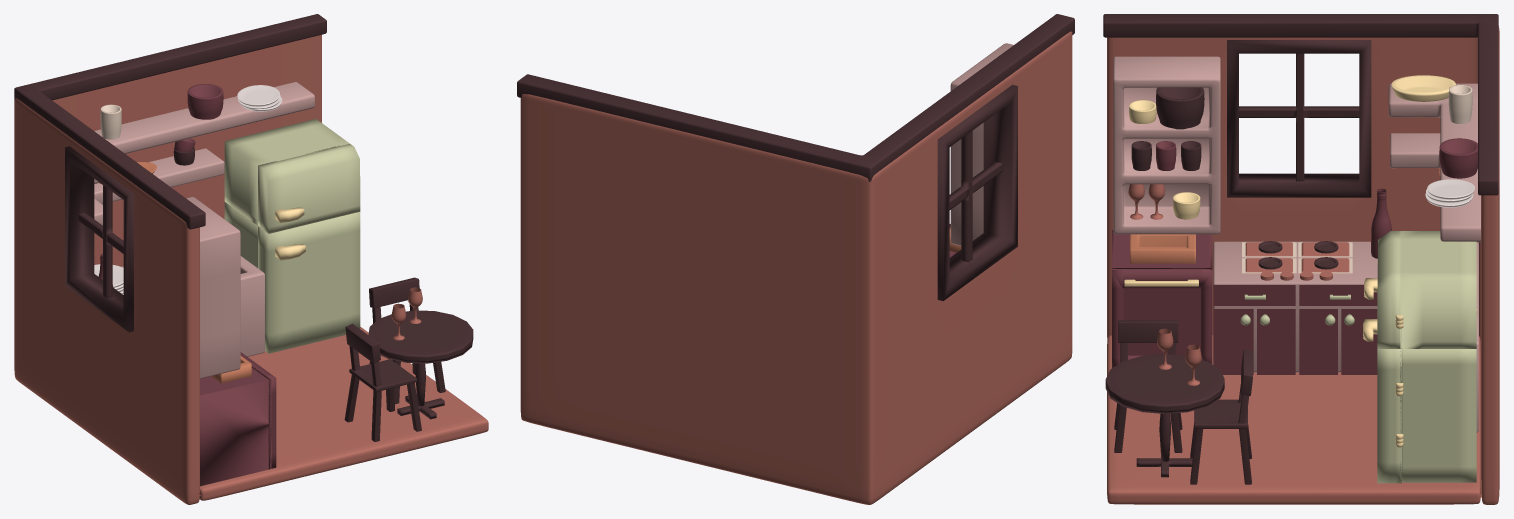
3 views of the same model, side by side, from view 1: azimuth 30°, elevation 25°; view 2: azimuth 150°, elevation 25°; view 3: azimuth 270°, elevation 25° (orthographic). The views are drawn at different scales.
Visible parts, largest first — view 1: walls, floor, Plane.003, Roof, Oven, window frame, Plane.002, Wall cabinet, Plane.001, Shelf 1, Cylinder.003, Chair 1 (+9 smaller); view 2: walls, Roof, window frame, Wall cabinet, Window bars; view 3: floor, walls, Wall cabinet, Roof, Cabinet doors, Plane, Plane.001, window frame, Oven.002, Floor cabinet, Cylinder.003, Shelf 1 (+26 smaller).
Part boxes in pixels (box(x1,y1,x2,y2)): walls: box(14, 34, 321, 504); floor: box(199, 327, 488, 500); Plane.003: box(258, 212, 360, 353); Roof: box(14, 14, 326, 229); Oven: box(200, 365, 271, 486); window frame: box(65, 146, 133, 332); Plane.002: box(258, 144, 360, 233); Wall cabinet: box(186, 196, 240, 378); Plane.001: box(224, 119, 349, 225); Shelf 1: box(94, 82, 314, 183); Cylinder.003: box(368, 310, 473, 363); Chair 1: box(344, 323, 421, 441); walls: box(520, 31, 1072, 504); Roof: box(517, 14, 1074, 181); window frame: box(937, 84, 1017, 300); Wall cabinet: box(950, 43, 1013, 245); Window bars: box(949, 131, 1002, 262); floor: box(1107, 335, 1480, 504); walls: box(1107, 26, 1499, 504); Wall cabinet: box(1113, 56, 1220, 234); Roof: box(1103, 14, 1498, 195); Cabinet doors: box(1213, 285, 1377, 374); Plane: box(1400, 349, 1476, 482); Plane.001: box(1400, 231, 1476, 348); window frame: box(1227, 40, 1371, 197); Oven.002: box(1112, 270, 1212, 367); Floor cabinet: box(1213, 241, 1478, 432); Cylinder.003: box(1105, 354, 1224, 413); Shelf 1: box(1388, 83, 1480, 241).
Size of what is drawn, in the model's own units: 3.28 by 2.95 by 3.23.
